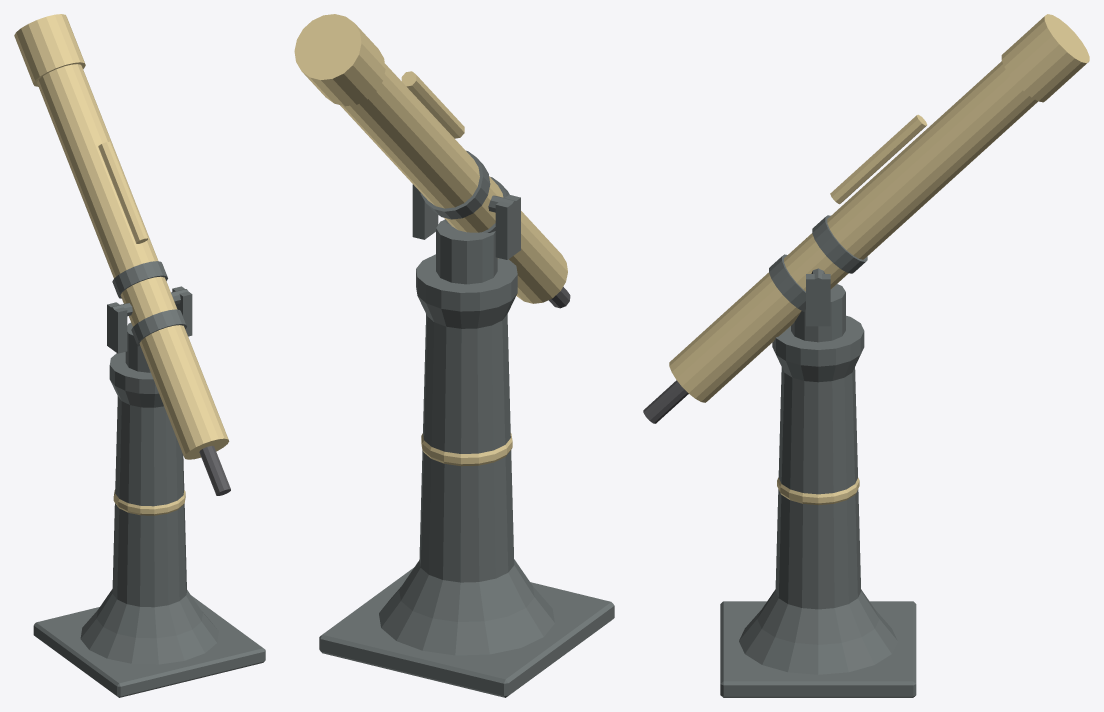
Rendered from telescope_s.glb.
3 renders of one model, left to right at view 1: azimuth 30°, elevation 25°; view 2: azimuth 150°, elevation 25°; view 3: azimuth 270°, elevation 25°, orthographic. The views are drawn at different scales.
Parts seen in each view (by area): view 1: telescope_s_iron, telescope_s_brass, telescope_s_dark; view 2: telescope_s_iron, telescope_s_brass; view 3: telescope_s_iron, telescope_s_brass, telescope_s_dark.
Boxes of the visible parts, box(x1,y1,x2,y2) form: telescope_s_iron: box(33, 261, 265, 697); telescope_s_brass: box(14, 14, 229, 515); telescope_s_dark: box(199, 445, 230, 495); telescope_s_iron: box(319, 150, 614, 697); telescope_s_brass: box(294, 14, 567, 466); telescope_s_iron: box(720, 215, 916, 697); telescope_s_brass: box(669, 14, 1089, 505); telescope_s_dark: box(643, 380, 688, 423).
Size of the model in its own units: 0.64 by 2.31 by 1.46.
